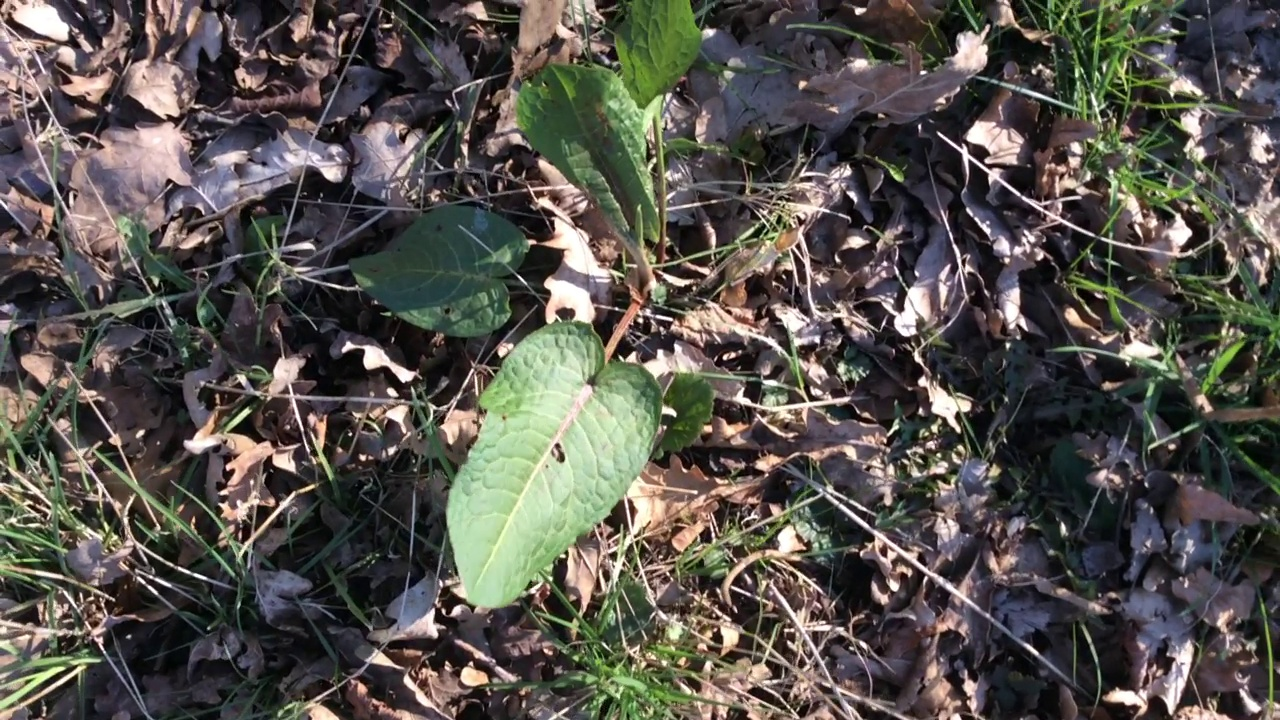rumex: (352, 1, 715, 609)
